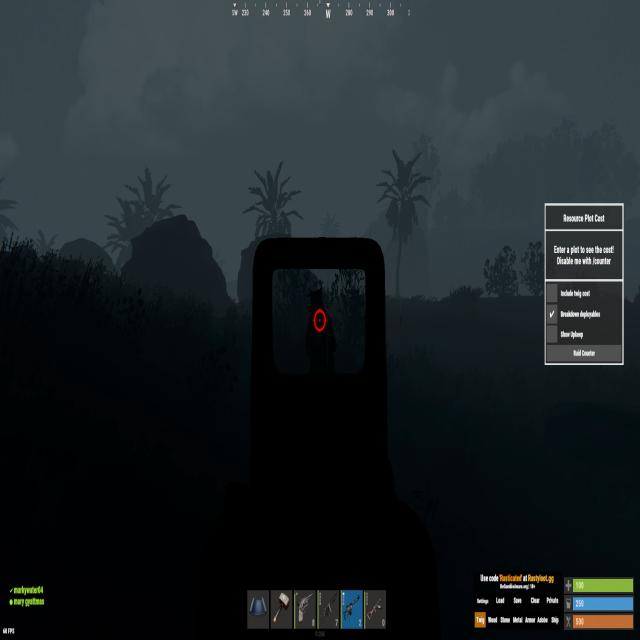Player: (302, 282, 340, 375)
